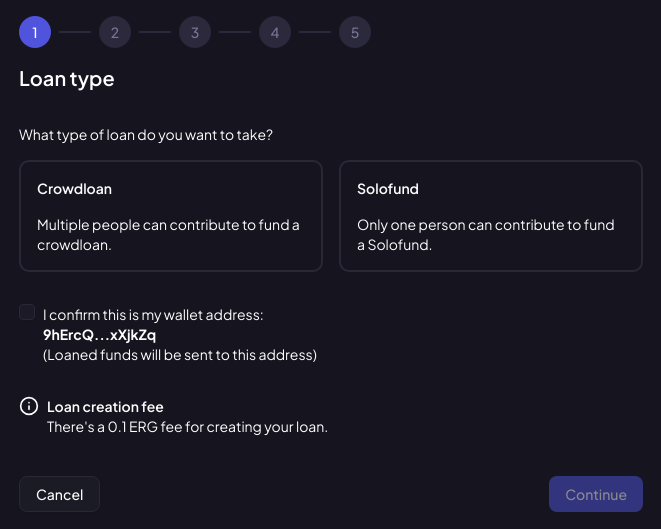
Scenario: LoanStepper › Step 2 - Loan Details › should allow going back to step 1
Click the text "Solofund" at (388, 188), box x1=357 y1=179 x2=419 y2=197
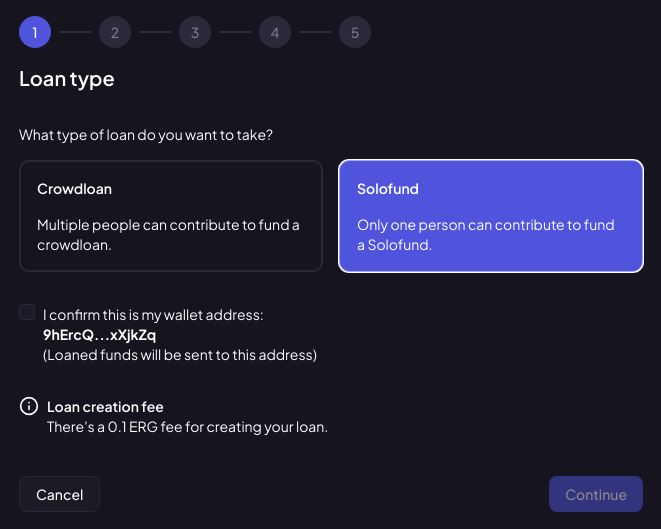
Click the checkbox at (27, 312), box x1=19 y1=304 x2=35 y2=320
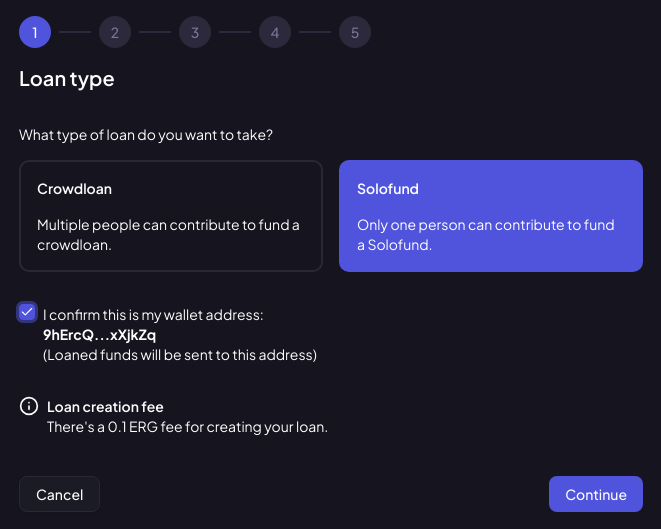
Click the button "Continue" at (596, 494), box x1=549 y1=476 x2=643 y2=512
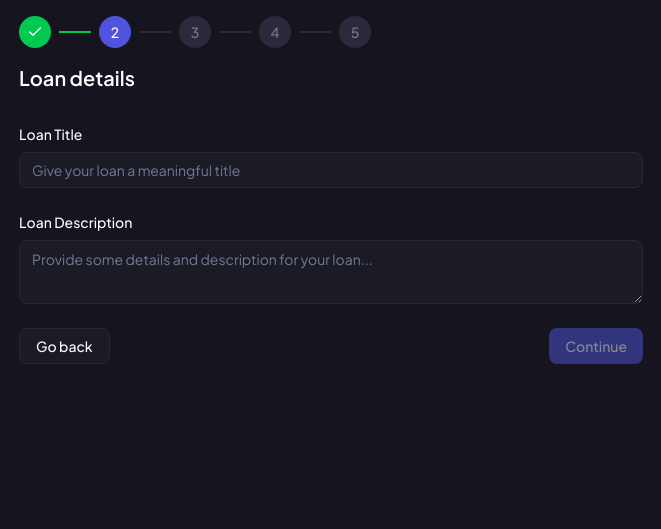
Click the button "Go back" at (64, 346), box x1=19 y1=328 x2=110 y2=364
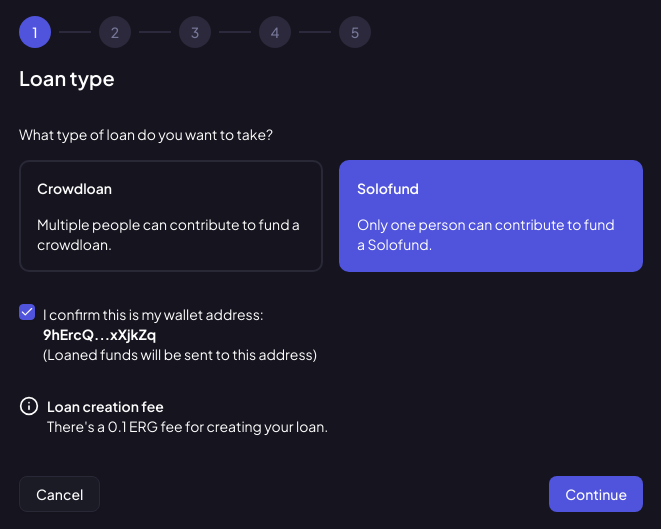
Result: the heading "Loan type" is shown at x1=19 y1=65 x2=115 y2=90
